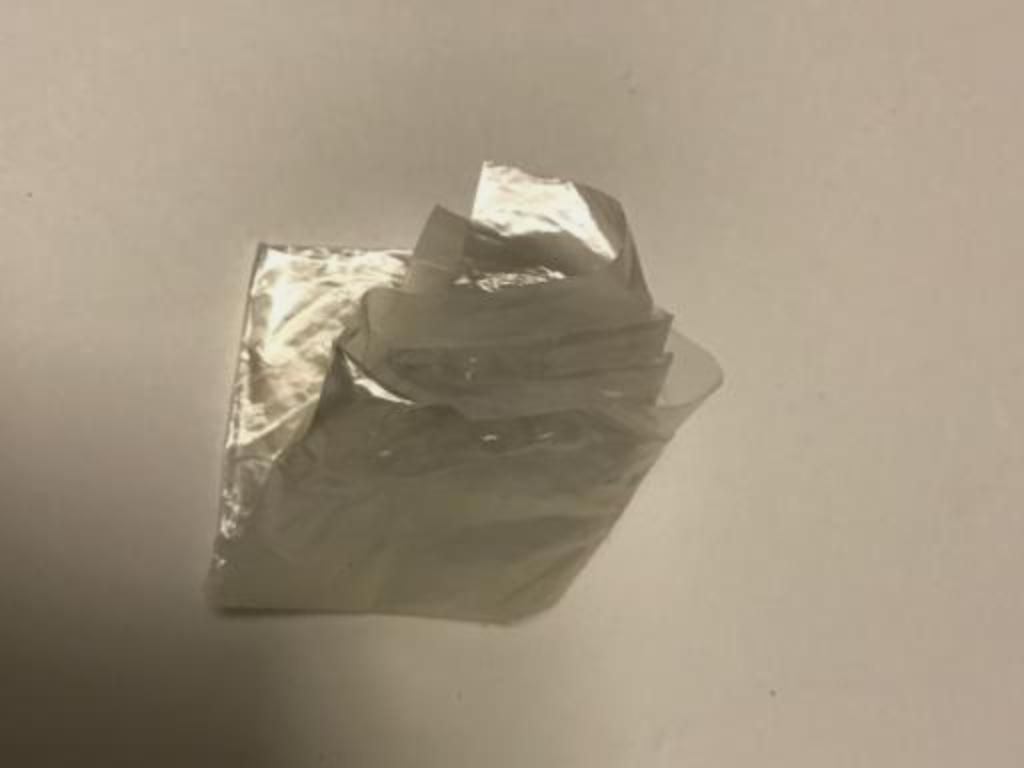garbage: (154, 102, 754, 706)
